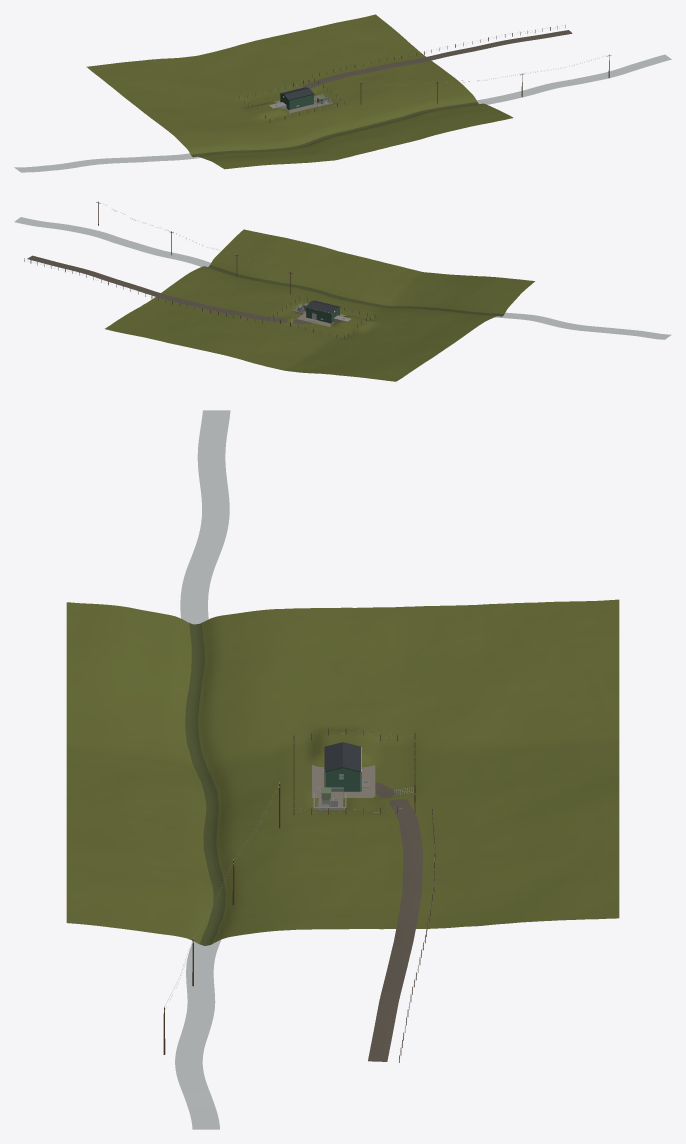
Rendered from bln_powerhouse.glb.
The picture shows the model from 3 angles, top to bottom: view 1: azimuth 30°, elevation 25°; view 2: azimuth 150°, elevation 25°; view 3: azimuth 270°, elevation 25°; orthographic projection. The views are drawn at different scales.
Parts seen in each view (by area): view 1: terrain_web, burn_water, track; view 2: terrain_web, burn_water, track; view 3: terrain_web, burn_water, track.
Part boxes in pixels (<box>): terrain_web: <box>86,14,513,169</box>; burn_water: <box>14,55,671,172</box>; track: <box>303,30,572,88</box>; terrain_web: <box>105,229,534,381</box>; burn_water: <box>15,217,670,339</box>; track: <box>27,255,311,324</box>; terrain_web: <box>66,599,619,945</box>; burn_water: <box>175,410,230,1129</box>; track: <box>368,782,422,1061</box>.
Size of what is drawn, in the model's own units: 260 by 17.05 by 96.
